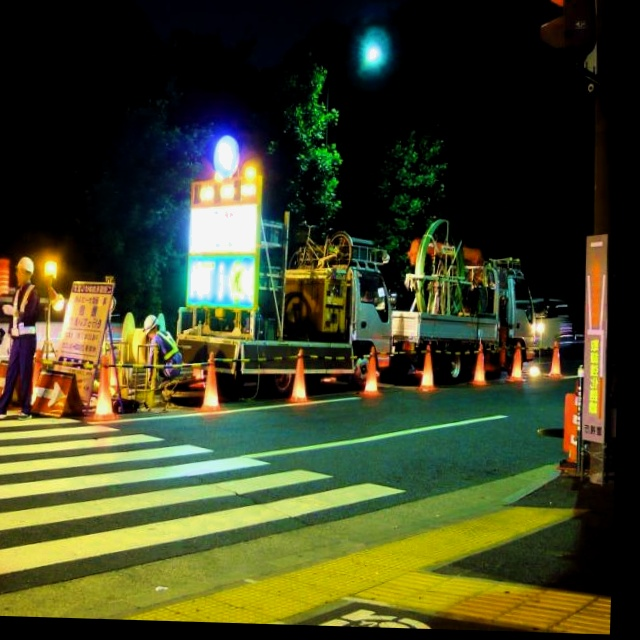Con_Casco: (15, 257, 35, 283)
Con_Chaleco: (8, 281, 42, 339), (151, 329, 180, 373)
